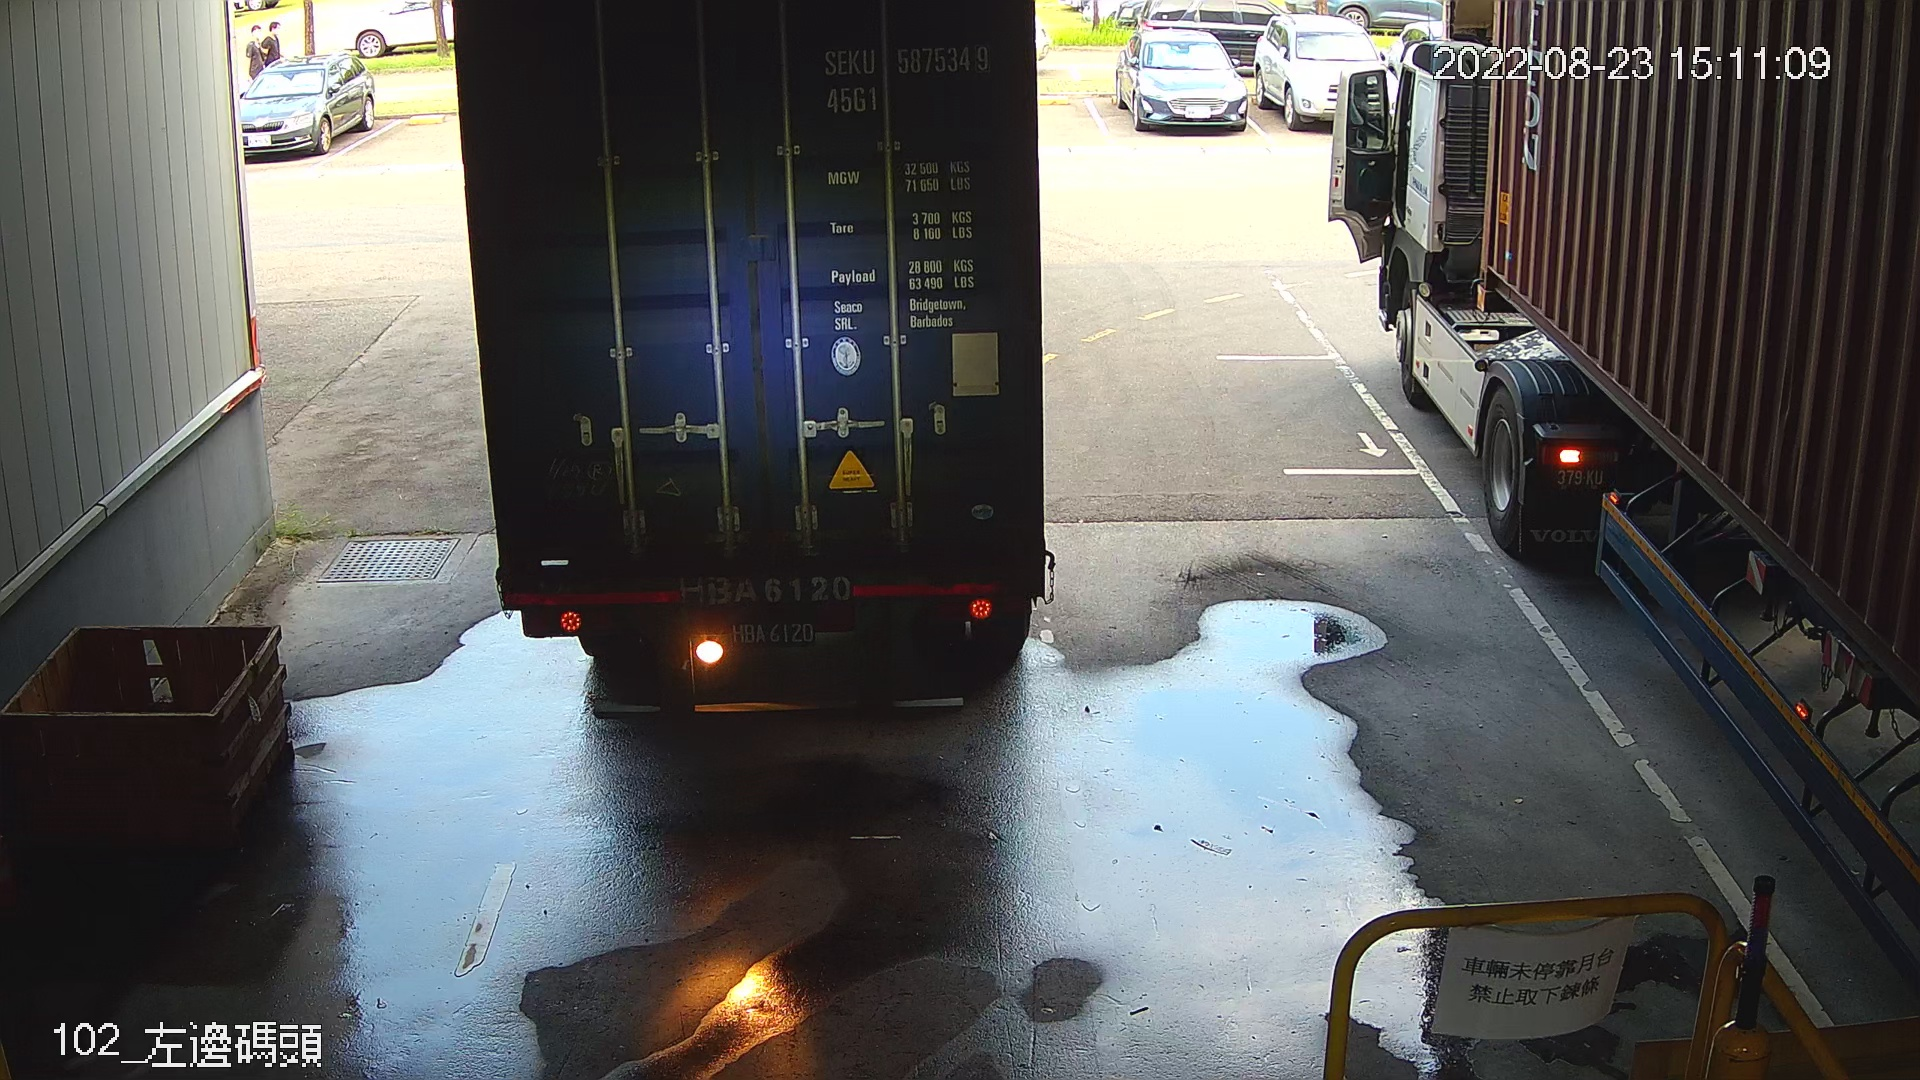container: (812, 36, 998, 124)
